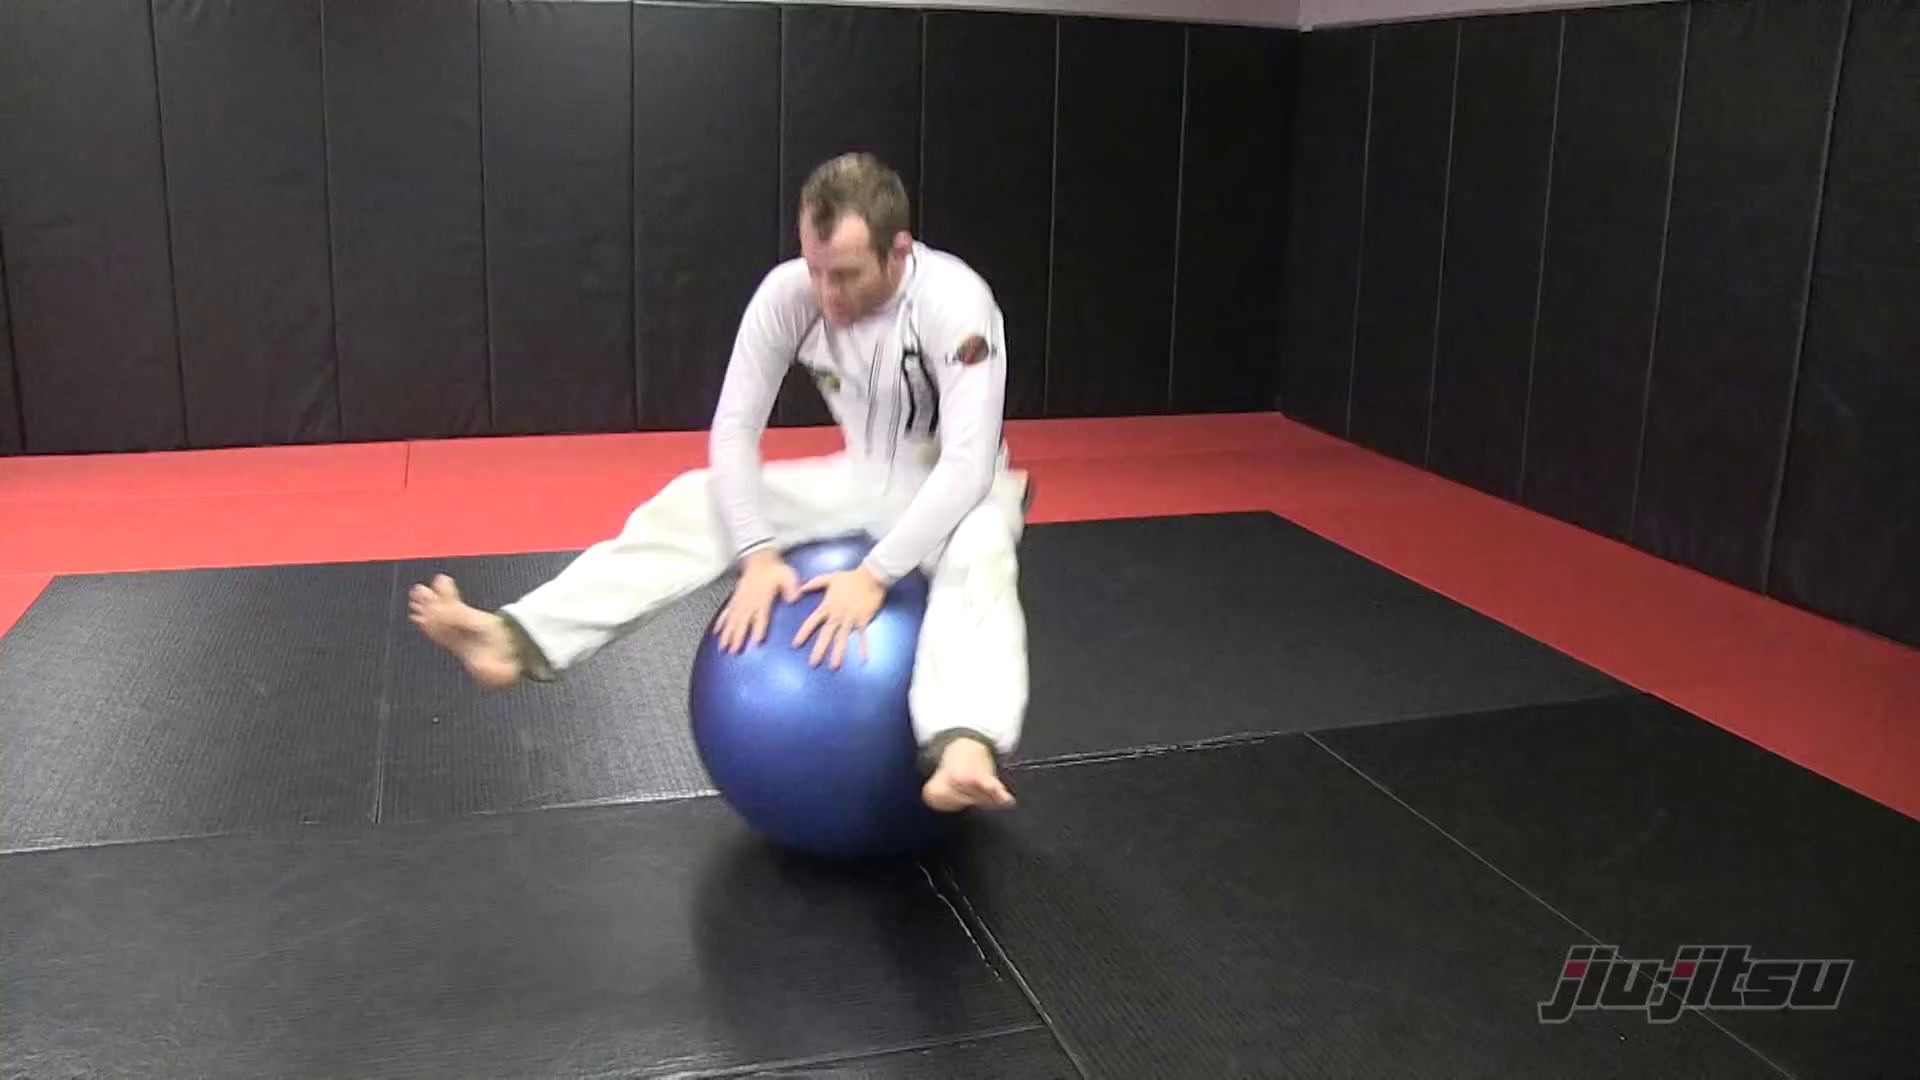yogaball: (673, 538, 1014, 873)
